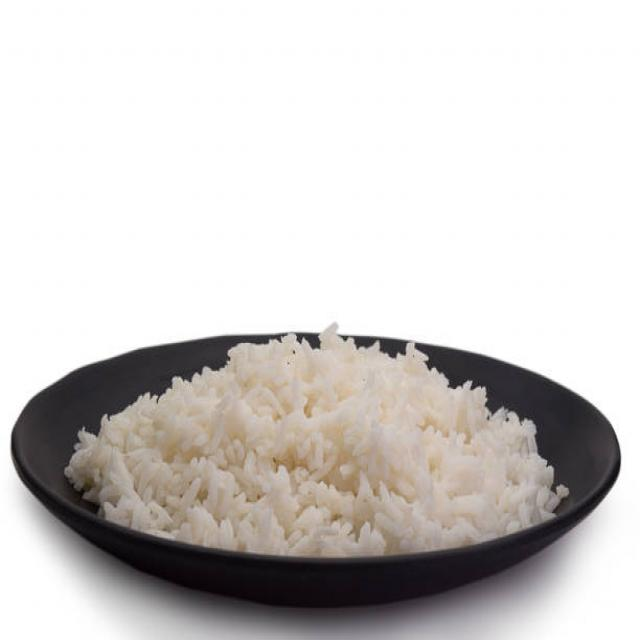rice: (65, 319, 568, 558)
